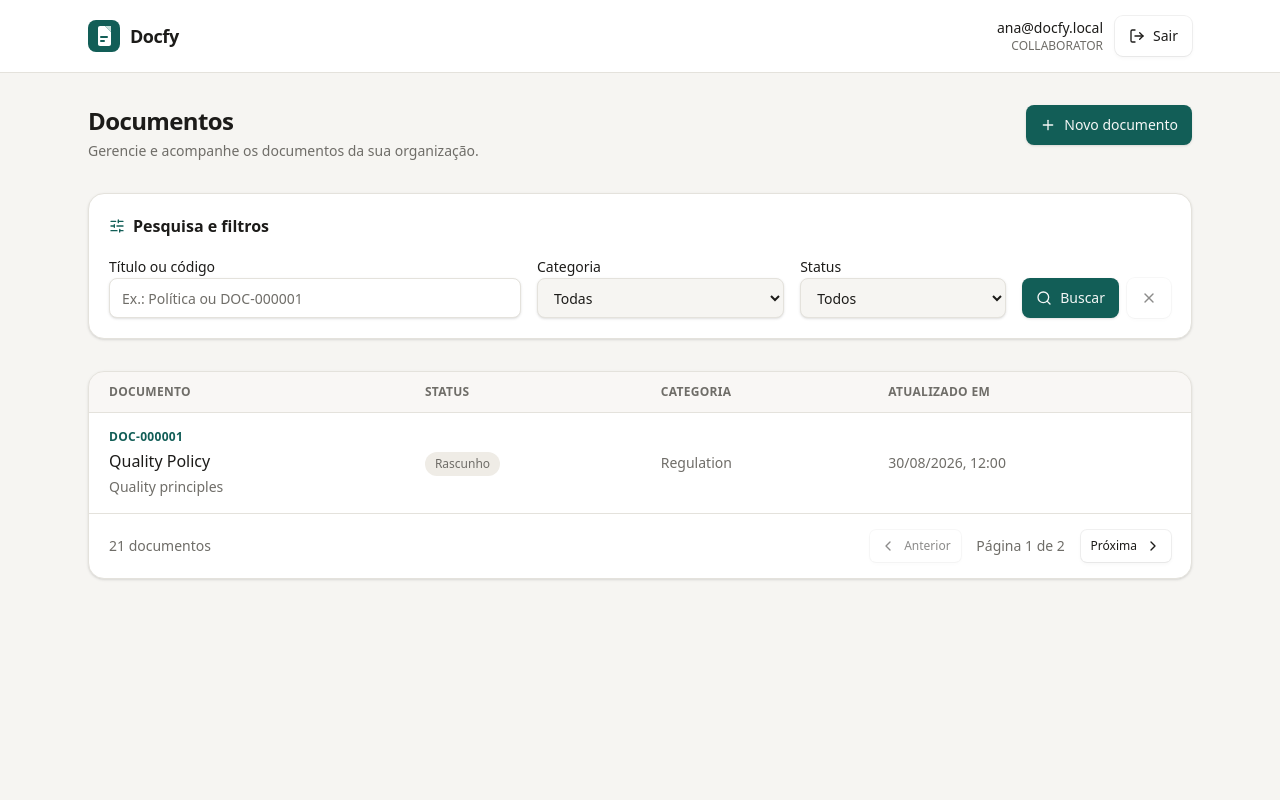
DocumentsPage › requests the next page from the backend
The width and height of the screenshot is (1280, 800).
expect the link "Quality Policy" is shown: met, box top-left (109, 450), bottom-right (210, 472)
Click the button "Próxima".
click(1126, 546)  # box top-left (1081, 530), bottom-right (1171, 562)
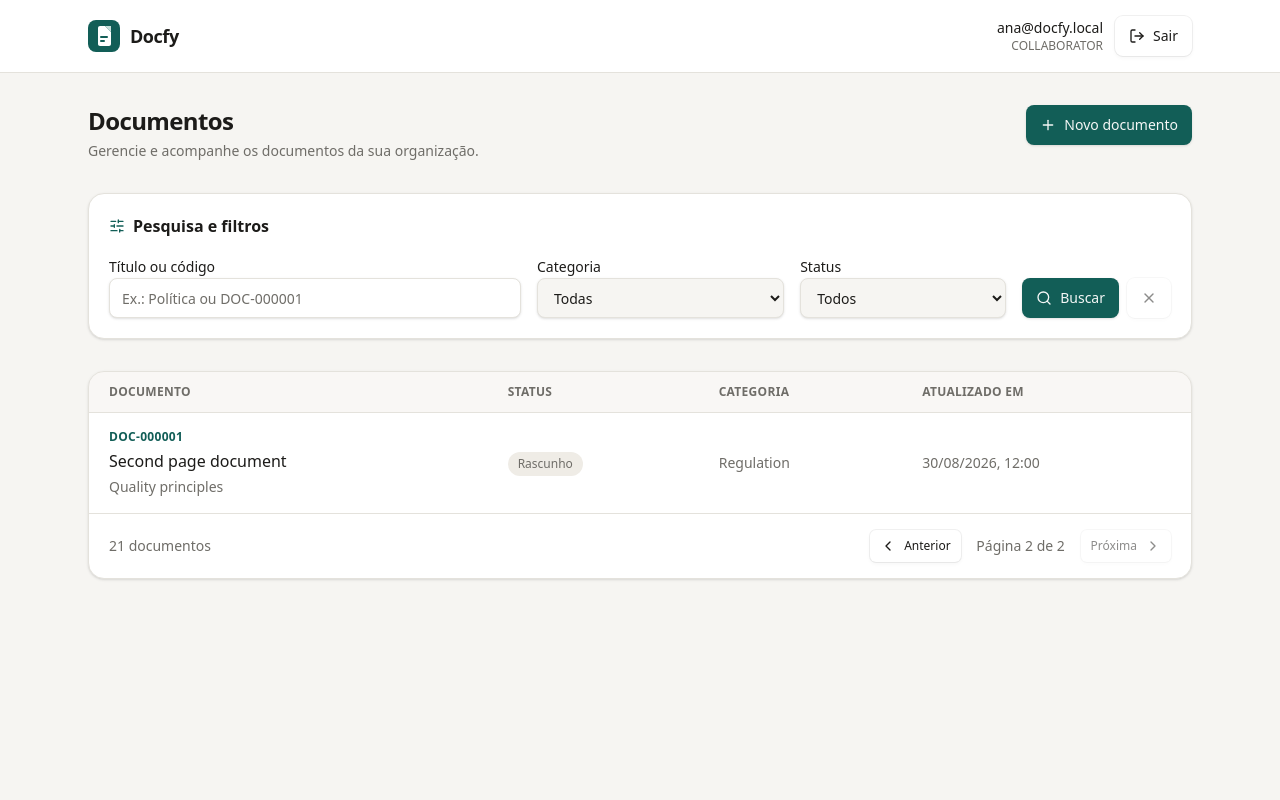
expect the link "Second page document" is shown: met, box top-left (109, 450), bottom-right (287, 472)
